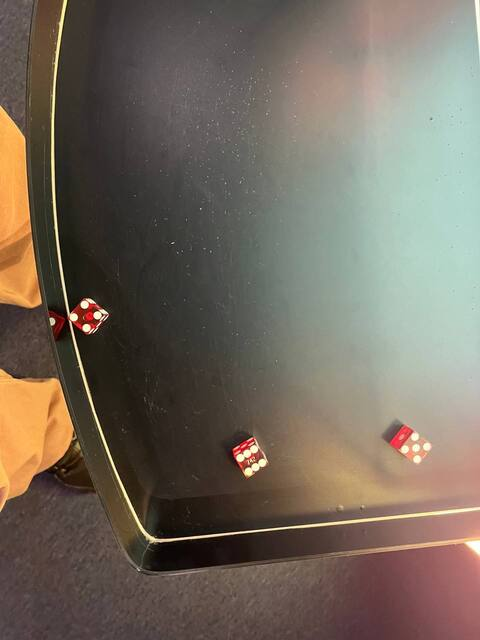five: (396, 429, 435, 467)
four: (65, 298, 106, 333)
six: (233, 442, 272, 482)
